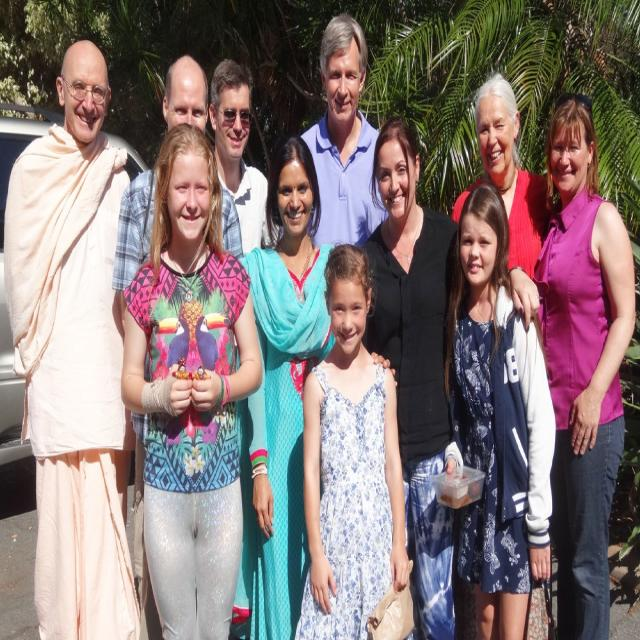body: (1, 35, 147, 639), (110, 52, 246, 640), (116, 120, 265, 639), (428, 176, 560, 639), (530, 90, 638, 640), (356, 115, 464, 639), (284, 236, 421, 639), (235, 130, 340, 639), (448, 74, 556, 299), (296, 9, 395, 249), (208, 56, 268, 254)
